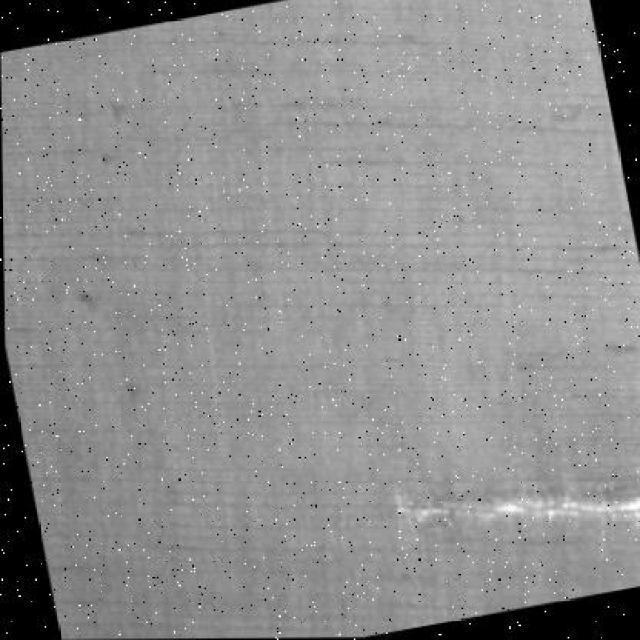other: (346, 462, 640, 562)
